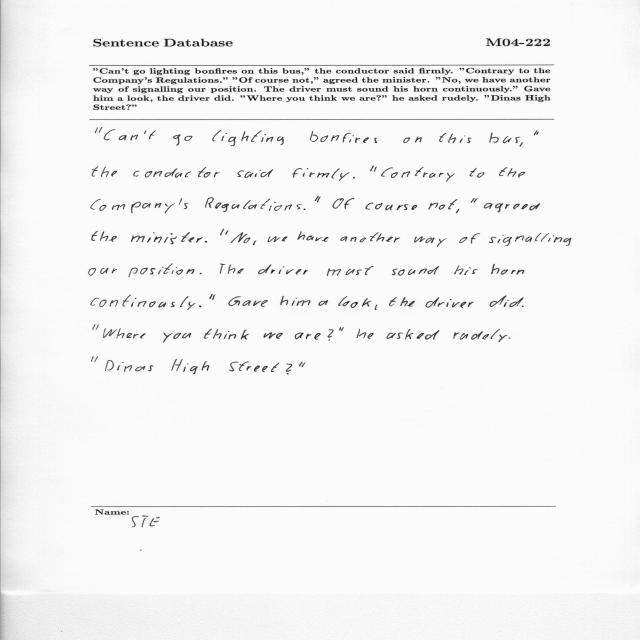word: (91, 295, 196, 310), (91, 199, 188, 214), (205, 197, 302, 212), (212, 130, 284, 146), (381, 167, 455, 182), (489, 233, 571, 246), (133, 167, 220, 178), (131, 232, 203, 244), (129, 264, 195, 277), (310, 131, 377, 143), (292, 168, 350, 181), (454, 329, 508, 342), (340, 233, 400, 243), (105, 360, 154, 372), (387, 329, 440, 340), (104, 130, 156, 141), (172, 359, 210, 374), (258, 264, 308, 275), (229, 361, 279, 372), (425, 297, 474, 308), (484, 203, 541, 212), (204, 329, 249, 340), (103, 328, 146, 339), (392, 266, 439, 276), (327, 266, 373, 276), (228, 296, 268, 307), (366, 203, 418, 211), (338, 296, 372, 308), (490, 296, 524, 308), (414, 236, 447, 247), (491, 264, 524, 275), (298, 231, 329, 242), (439, 133, 472, 143), (237, 169, 273, 178), (429, 199, 458, 210), (489, 133, 520, 143), (281, 296, 311, 306), (92, 166, 118, 177), (499, 167, 525, 178), (163, 333, 191, 343), (92, 231, 117, 242), (220, 264, 244, 274), (454, 265, 478, 275), (389, 297, 415, 306), (459, 233, 480, 244), (89, 268, 117, 276), (173, 135, 193, 146), (231, 232, 251, 243), (295, 333, 321, 340), (356, 329, 374, 339), (470, 168, 485, 178), (263, 332, 283, 339), (332, 198, 344, 209), (268, 236, 288, 242), (403, 137, 422, 143), (344, 198, 354, 209), (286, 364, 293, 375), (328, 329, 334, 341), (318, 300, 328, 306), (220, 229, 229, 235), (96, 127, 103, 133), (370, 166, 377, 172), (315, 196, 321, 202), (209, 294, 215, 300), (93, 325, 99, 331), (534, 130, 539, 136), (471, 198, 477, 203), (92, 357, 98, 362), (299, 362, 305, 367), (519, 142, 523, 147), (339, 327, 344, 331), (456, 209, 459, 213), (253, 241, 256, 245), (375, 305, 377, 310), (353, 177, 355, 179), (205, 241, 207, 243), (199, 306, 201, 308), (522, 305, 524, 307), (303, 209, 306, 210), (199, 273, 202, 274), (509, 338, 511, 339)
